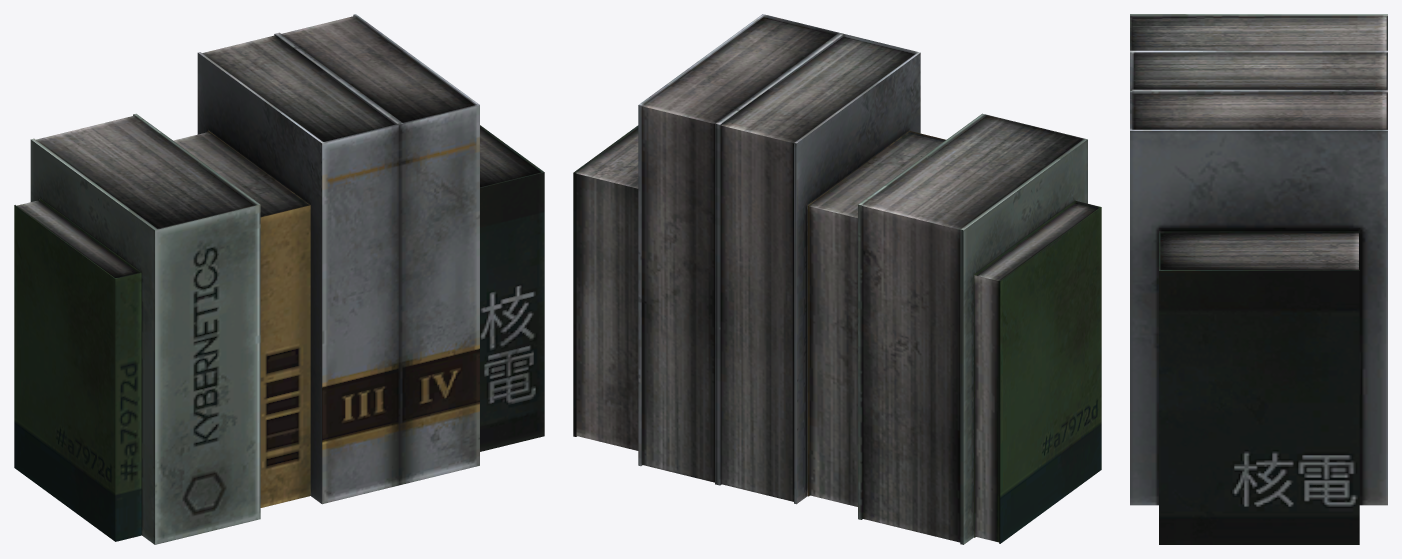
The model's file is book_row03.dae.
The picture shows the model from 3 angles, left to right: view 1: azimuth 30°, elevation 25°; view 2: azimuth 150°, elevation 25°; view 3: azimuth 270°, elevation 25°; orthographic projection. The views are drawn at different scales.
Visible parts, largest first — view 1: book_row03; view 2: book_row03; view 3: book_row03.
Part boxes in pixels (x1=…): book_row03: x1=14, y1=14, x2=544, y2=544; book_row03: x1=573, y1=14, x2=1101, y2=544; book_row03: x1=1130, y1=14, x2=1387, y2=544.
Size of the model in its own units: 0.4869 by 0.3901 by 0.2435.
